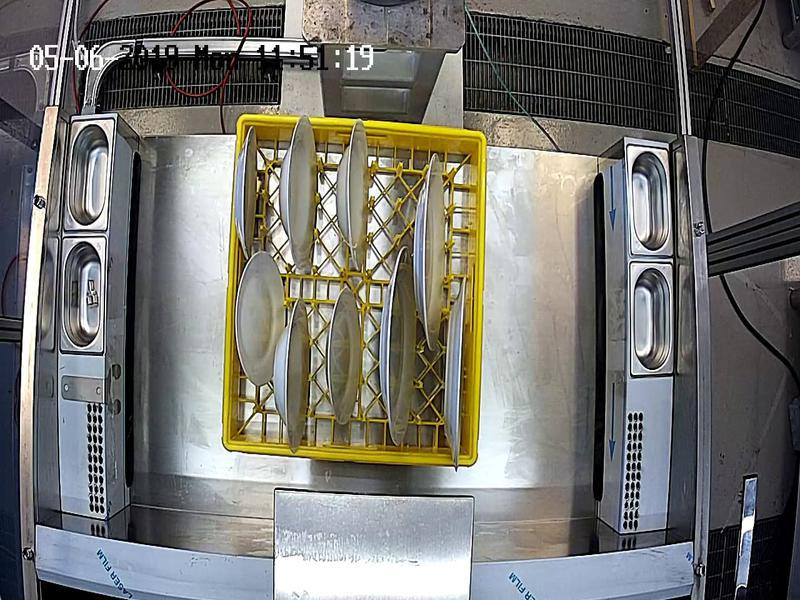Dish: (379, 245, 415, 445), (413, 155, 445, 349), (280, 117, 318, 276), (273, 298, 309, 455), (336, 120, 367, 276), (445, 276, 463, 470), (234, 124, 259, 255)
Inclined_dish: (233, 255, 286, 385)
